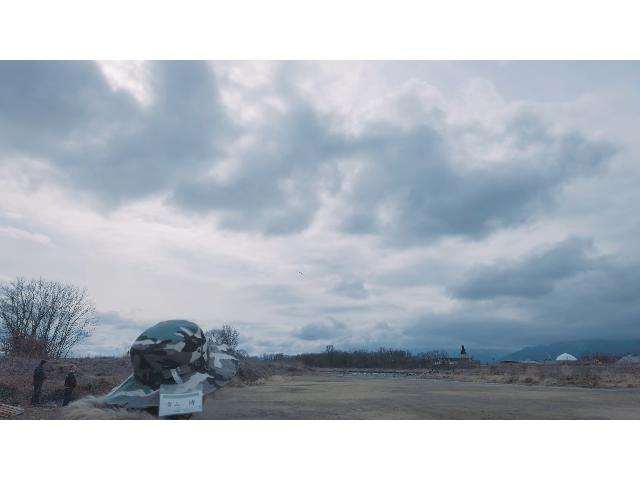Anti-Drone: (294, 267, 306, 277)
